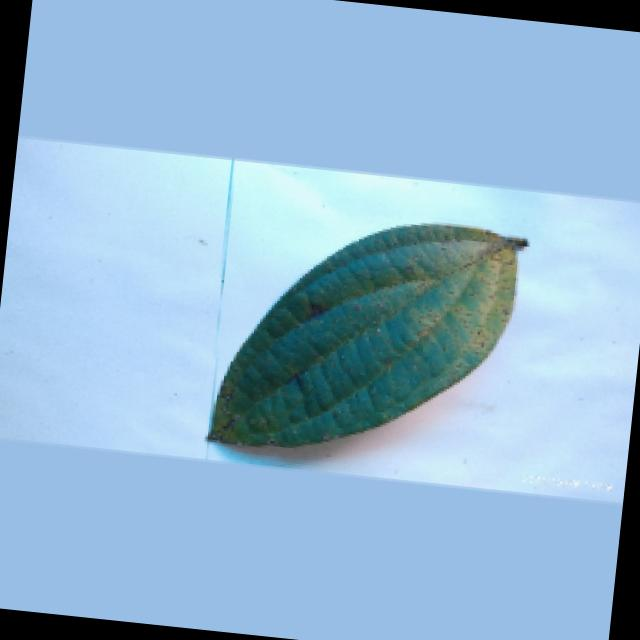slow-decline: (198, 192, 540, 479)
